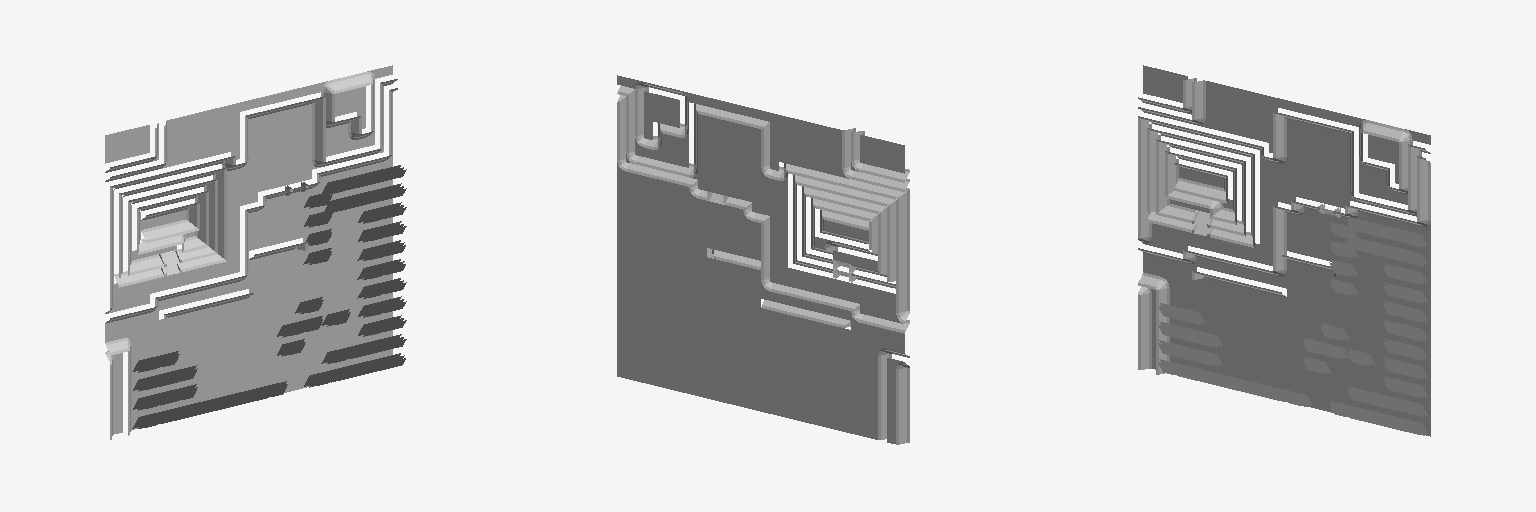
The model's file is Plat_full_16_10.obj.
3 renders of one model, left to right at view 1: azimuth 30°, elevation 25°; view 2: azimuth 150°, elevation 25°; view 3: azimuth 330°, elevation 25°, orthographic.
Visible parts, largest first — view 1: map; view 2: map; view 3: map.
Part boxes in pixels (x1,y1,x2,y2): map: (105, 65, 406, 439); map: (617, 75, 909, 444); map: (1138, 65, 1430, 436).
Size of the model in its own units: 32 by 32 by 2.64.